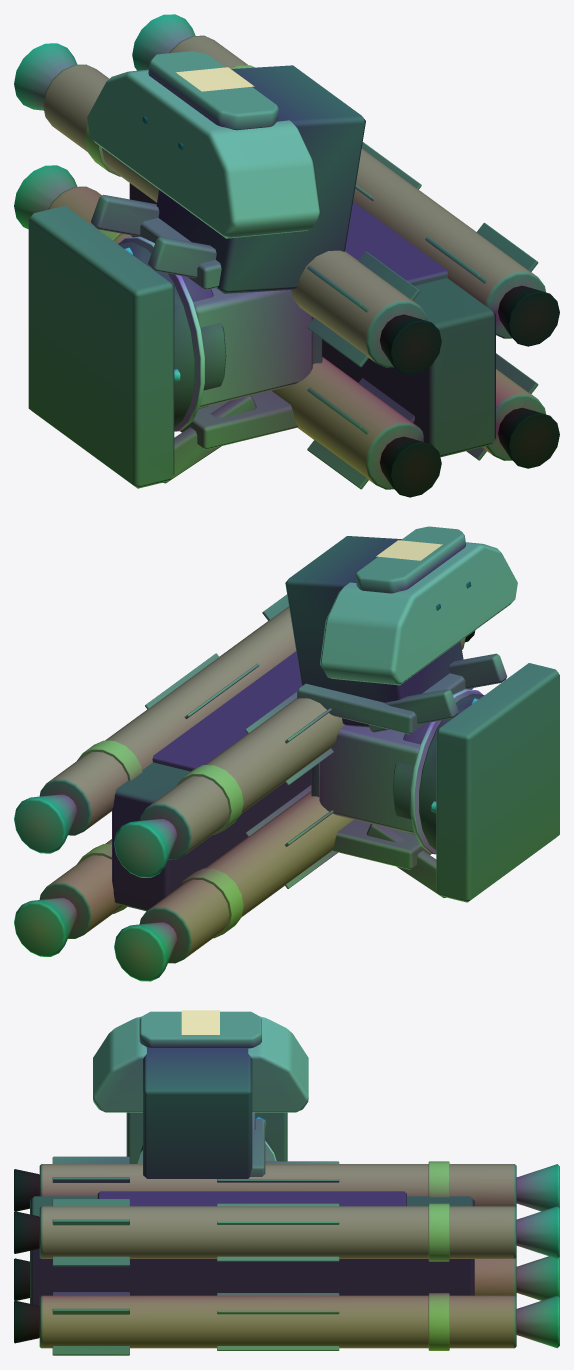
File: arm_m299.glb
The picture shows the model from 3 angles, top to bottom: view 1: azimuth 30°, elevation 25°; view 2: azimuth 150°, elevation 25°; view 3: azimuth 270°, elevation 25°; orthographic projection. The views are drawn at different scales.
Visible parts, largest first — view 1: Body__gunmetal, Body__armor_dark, Body__dark, Body__armor, Body__armor_sub, Body__bore, Body__glass, Body__chrome, Body__decal, Body__brass; view 2: Body__armor_dark, Body__gunmetal, Body__armor, Body__dark, Body__armor_sub, Body__glass, Body__brass, Body__chrome, Body__decal; view 3: Body__armor_dark, Body__dark, Body__gunmetal, Body__armor, Body__armor_sub, Body__glass, Body__bore, Body__brass, Body__decal.
Part boxes in pixels (x1=…): Body__gunmetal: x1=28, y1=201, x2=538, y2=489; Body__armor_dark: x1=43, y1=35, x2=545, y2=489; Body__dark: x1=118, y1=65, x2=495, y2=457; Body__armor: x1=87, y1=69, x2=320, y2=407; Body__armor_sub: x1=91, y1=51, x2=421, y2=483; Body__bore: x1=379, y1=285, x2=559, y2=497; Body__glass: x1=14, y1=14, x2=195, y2=229; Body__chrome: x1=119, y1=236, x2=204, y2=431; Body__decal: x1=176, y1=67, x2=254, y2=91; Body__brass: x1=85, y1=65, x2=254, y2=241; Body__armor_dark: x1=39, y1=606, x2=465, y2=963; Body__gunmetal: x1=152, y1=594, x2=559, y2=902; Body__armor: x1=319, y1=542, x2=517, y2=834; Body__dark: x1=112, y1=536, x2=484, y2=911; Body__armor_sub: x1=145, y1=526, x2=507, y2=897; Body__glass: x1=14, y1=794, x2=177, y2=981; Body__brass: x1=77, y1=740, x2=243, y2=938; Body__chrome: x1=410, y1=689, x2=482, y2=854; Body__decal: x1=376, y1=540, x2=442, y2=560; Body__armor_dark: x1=39, y1=1164, x2=516, y2=1348; Body__dark: x1=30, y1=1047, x2=474, y2=1305; Body__gunmetal: x1=52, y1=1112, x2=406, y2=1355; Body__armor: x1=93, y1=1016, x2=308, y2=1112; Body__armor_sub: x1=139, y1=1011, x2=339, y2=1350; Body__glass: x1=516, y1=1164, x2=559, y2=1348; Body__bore: x1=14, y1=1169, x2=39, y2=1343; Body__brass: x1=428, y1=1161, x2=449, y2=1350; Body__decal: x1=181, y1=1010, x2=219, y2=1034.
Size of the model in its own units: 0.935 by 0.9269 by 1.7.
